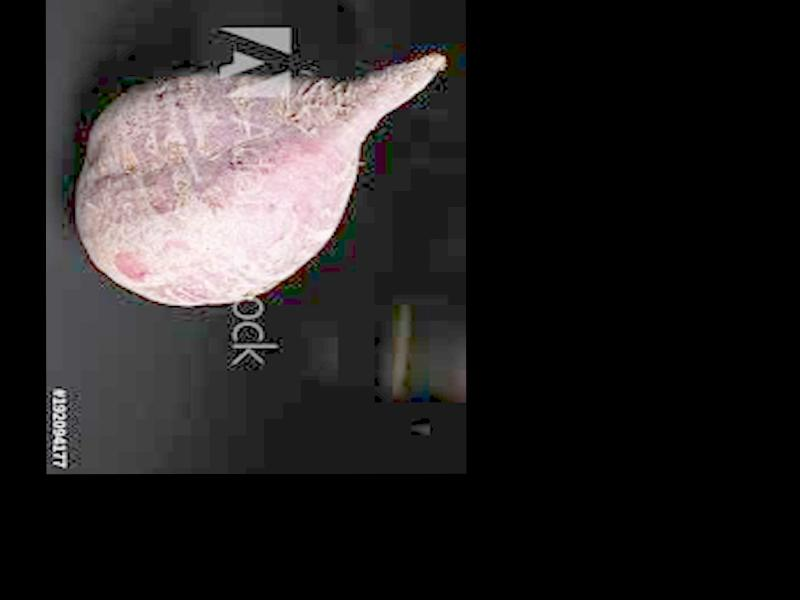Beet: (79, 56, 445, 307)
